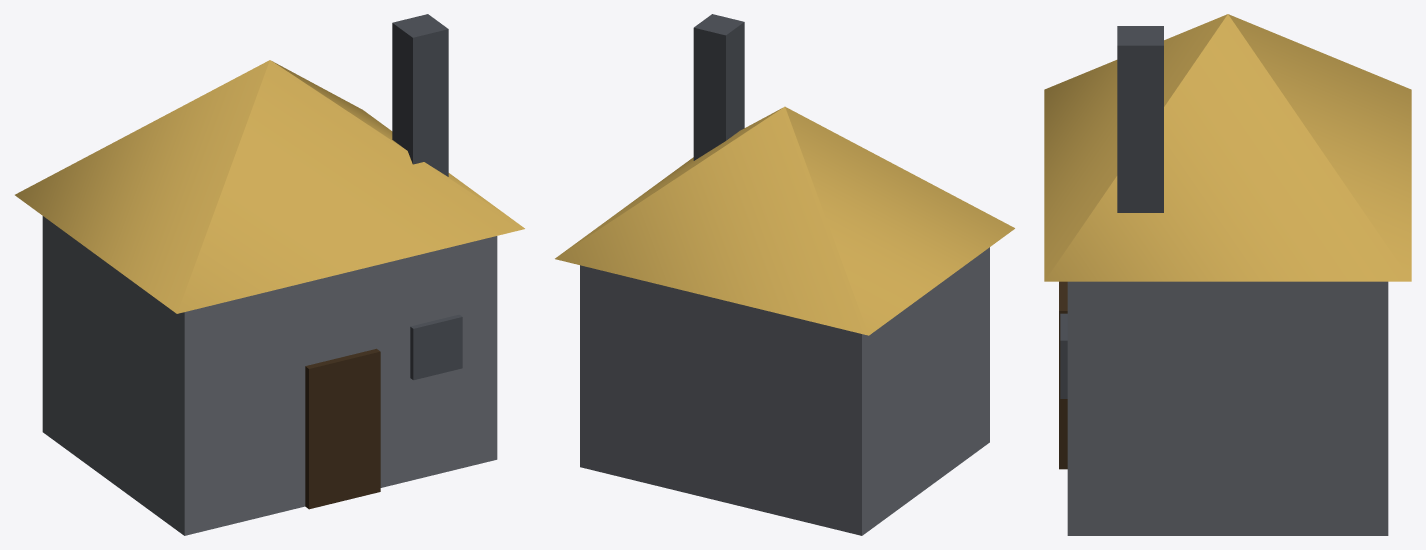
The model's file is cottage.glb.
The picture shows the model from 3 angles, left to right: view 1: azimuth 30°, elevation 25°; view 2: azimuth 150°, elevation 25°; view 3: azimuth 270°, elevation 25°; orthographic projection. The views are drawn at different scales.
Bounding box in the file's own units: 1.56 × 1.8 × 1.26.
